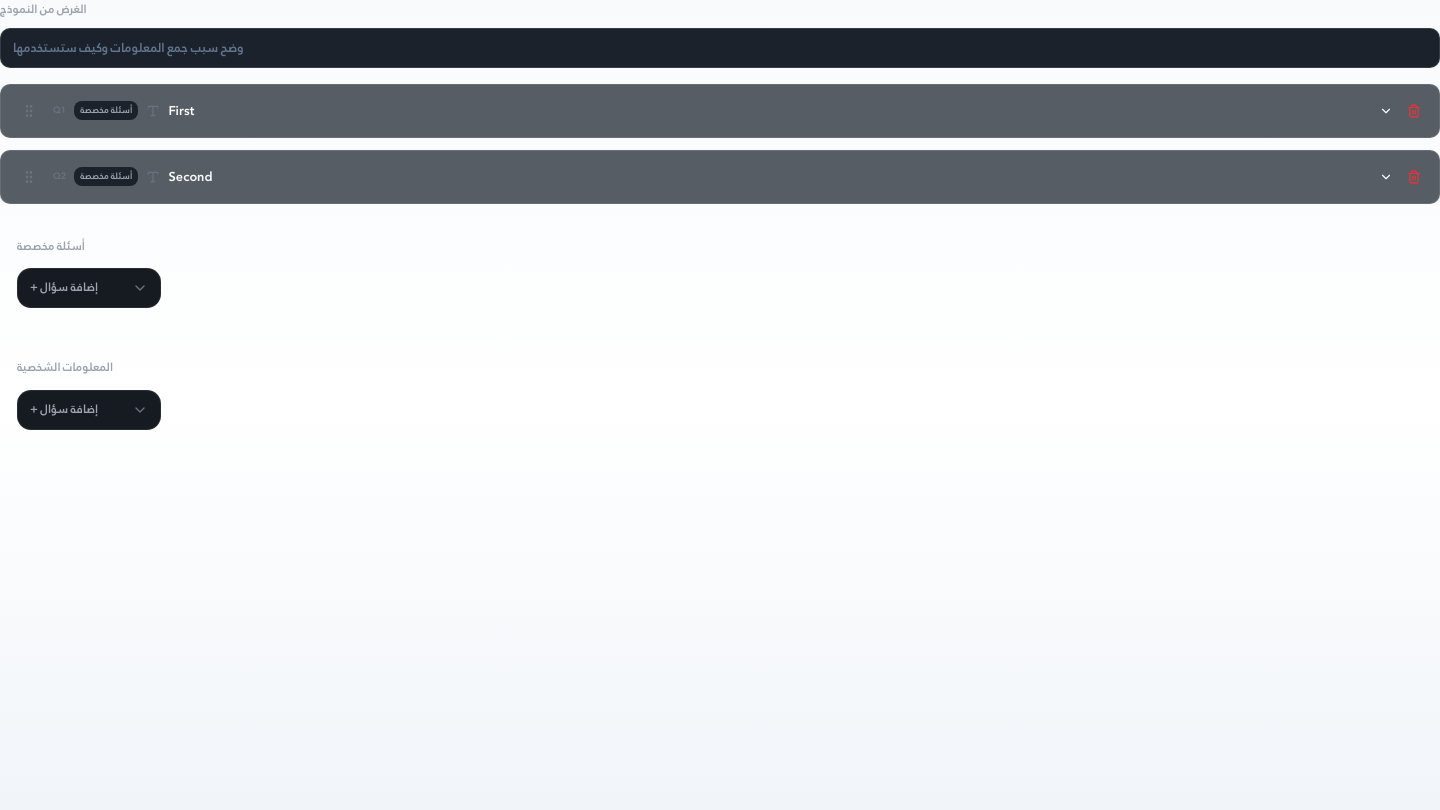
question authoring controls › keeps product editor labels in ar when the form's content language differs
The width and height of the screenshot is (1440, 810).
Click the 1st button "+ إضافة سؤال" at (89, 288), box [17,268,161,308]
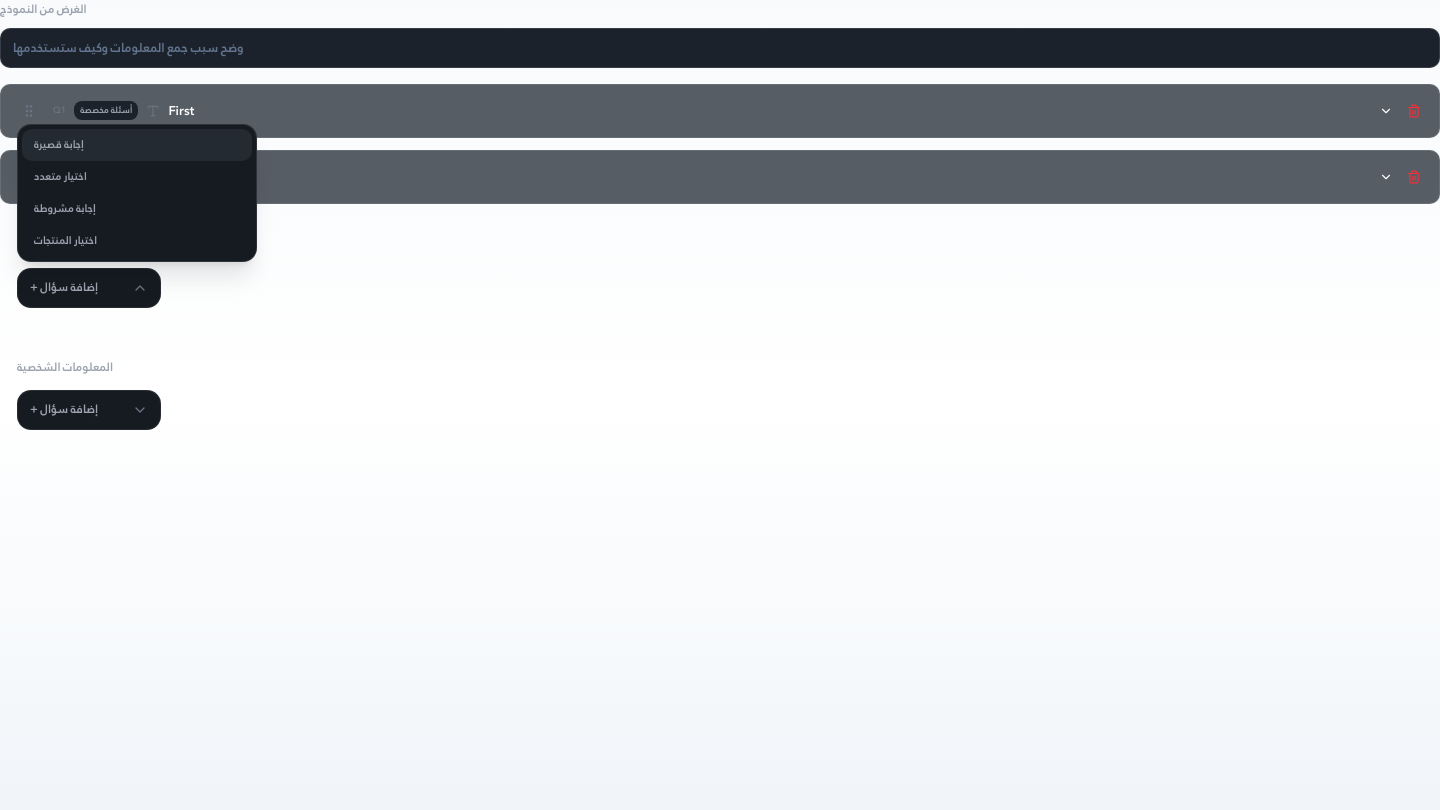
Click the option "اختيار المنتجات" at (137, 241), box [22,225,252,257]
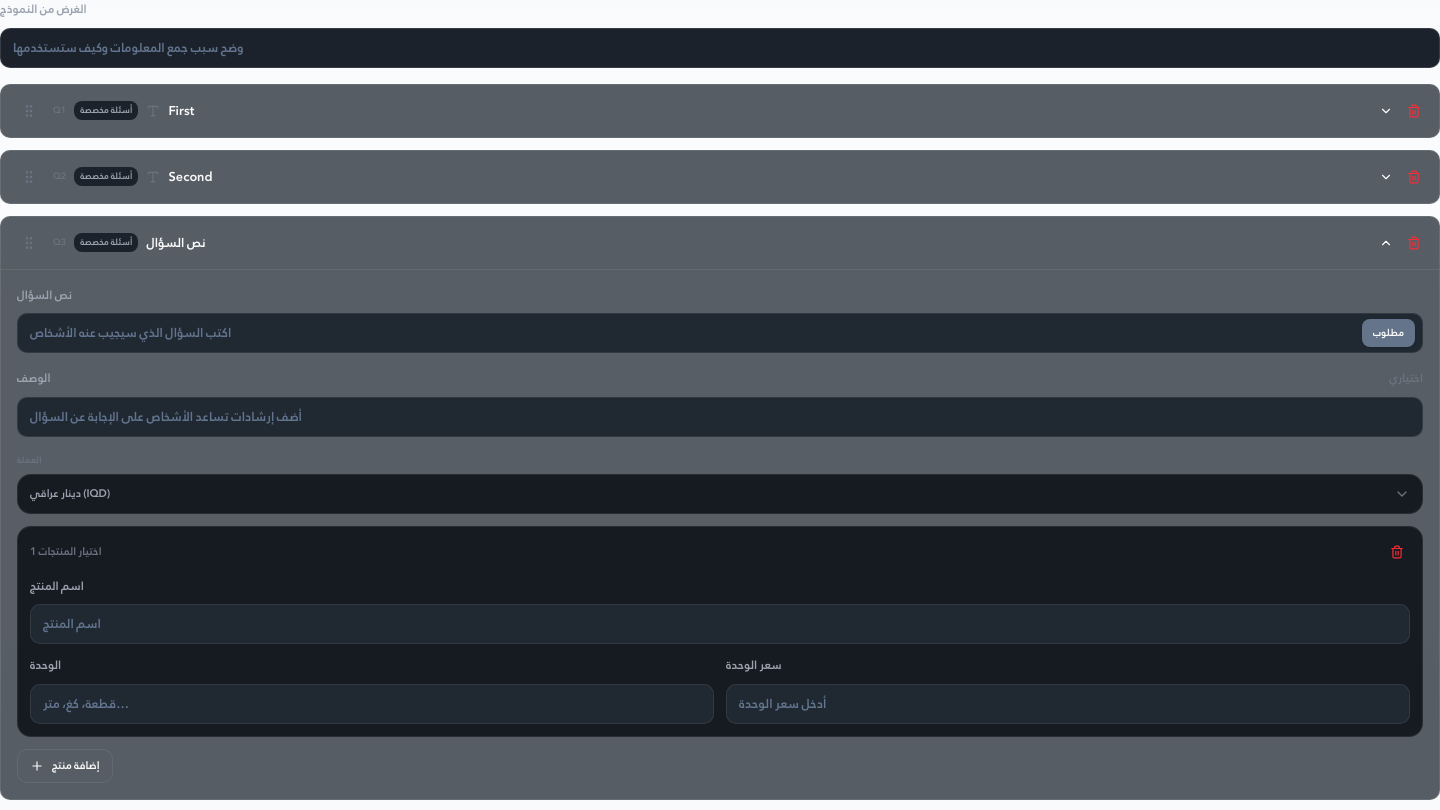
Now the field labelled "اسم المنتج" is shown, box [30,604,1410,644]
Now the field labelled "سعر الوحدة" is shown, box [726,684,1410,724]
